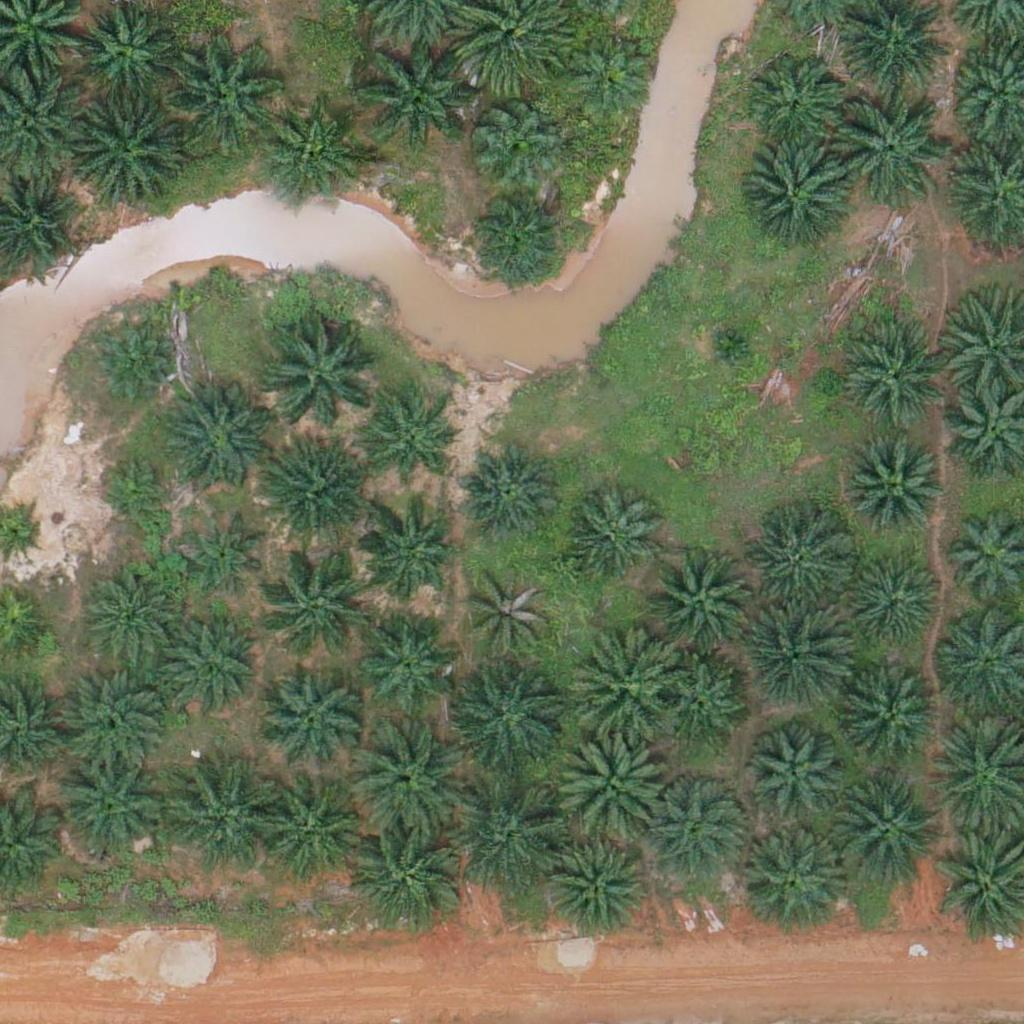Kelapa_Sawit: (740, 822, 853, 936), (827, 774, 940, 888), (67, 94, 180, 208), (738, 143, 851, 256), (739, 601, 852, 714), (351, 822, 464, 935), (264, 312, 377, 425), (158, 385, 271, 498), (56, 663, 169, 776), (53, 751, 166, 864), (263, 543, 375, 657), (161, 760, 273, 874), (830, 91, 942, 204), (644, 545, 756, 658), (567, 628, 679, 741), (554, 726, 666, 839), (456, 781, 568, 894), (452, 660, 564, 773), (356, 36, 468, 149), (350, 722, 462, 835), (251, 779, 363, 892), (254, 440, 366, 553), (167, 36, 279, 149), (745, 53, 845, 154), (745, 731, 845, 832), (646, 775, 746, 876), (560, 486, 660, 587), (356, 506, 456, 607), (258, 668, 358, 769), (158, 619, 258, 720), (845, 331, 945, 431), (846, 440, 946, 540), (846, 556, 946, 656), (842, 672, 942, 772), (748, 516, 848, 616), (545, 838, 645, 938), (466, 188, 566, 288), (457, 441, 557, 541), (356, 610, 456, 710), (263, 109, 363, 209), (81, 567, 181, 667), (656, 659, 744, 747), (470, 95, 558, 183), (181, 513, 269, 601), (86, 321, 174, 409), (567, 30, 655, 118), (466, 572, 553, 660), (368, 402, 455, 490), (98, 452, 173, 527), (703, 318, 753, 369)
